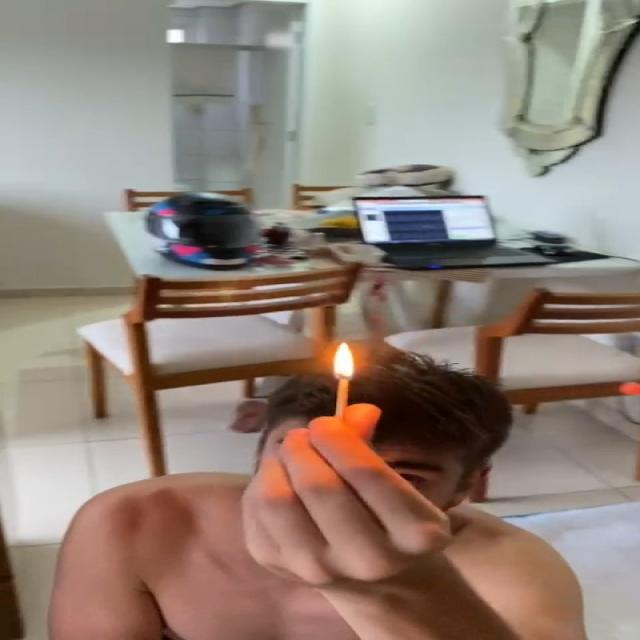fogo-ypXI: (333, 341, 356, 382)
